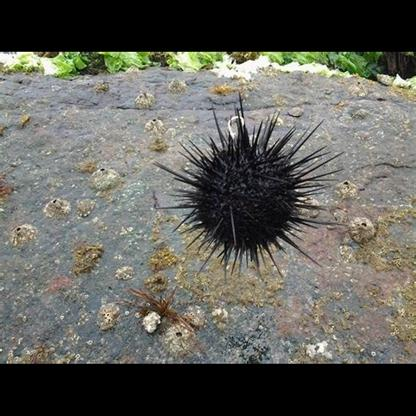urchin: (146, 94, 354, 279)
